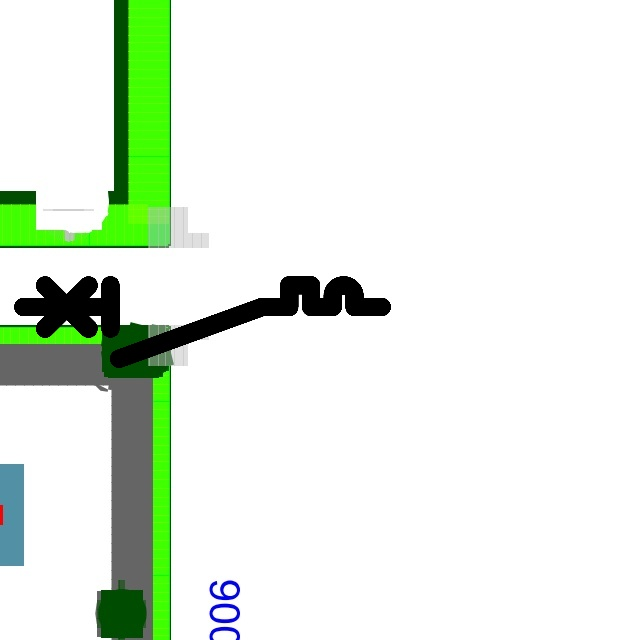interruptor_termomagnetico: (14, 276, 391, 368)
